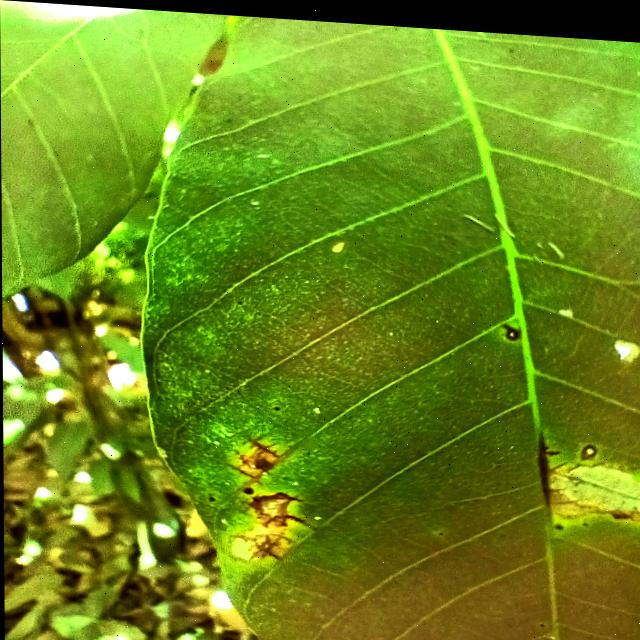Colletotrichum: (580, 436, 596, 453), (505, 322, 518, 334), (243, 484, 253, 492)
Corynespora: (536, 424, 559, 499), (244, 432, 281, 456), (287, 511, 304, 521)
Leaf-Blight: (549, 453, 640, 514), (231, 487, 291, 559), (239, 446, 277, 474)
